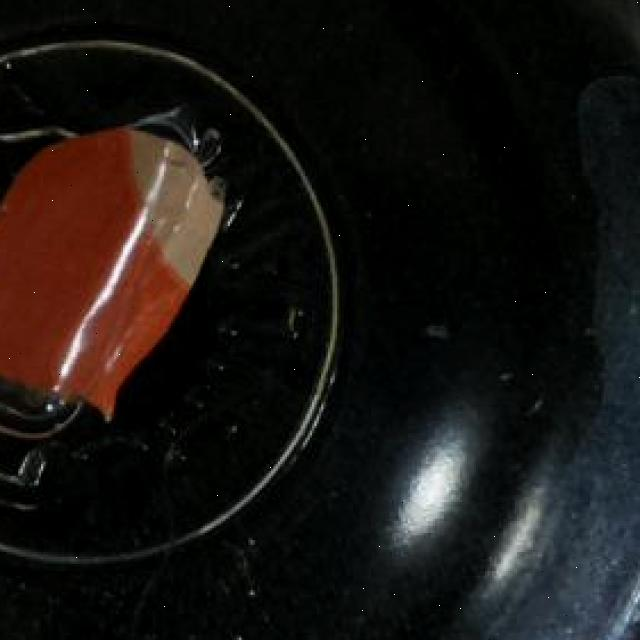Microplastic: (0, 128, 223, 412)
